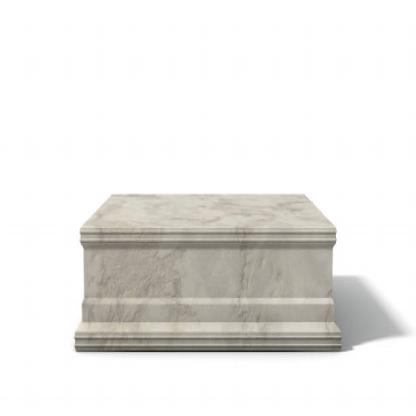Metamorphic_Marble: (64, 173, 350, 361)
